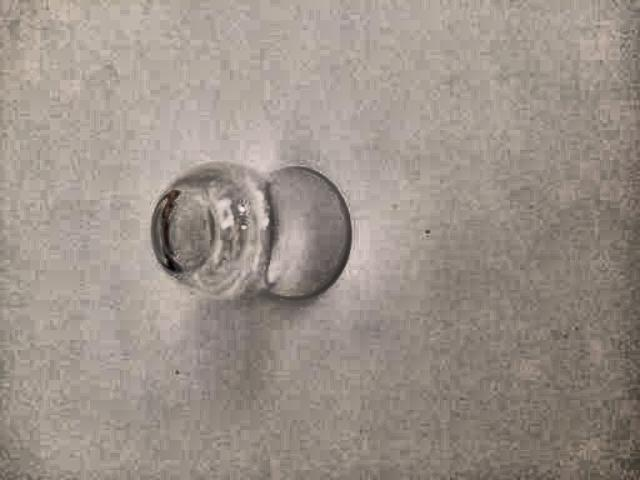Almennt: (151, 136, 368, 324)
